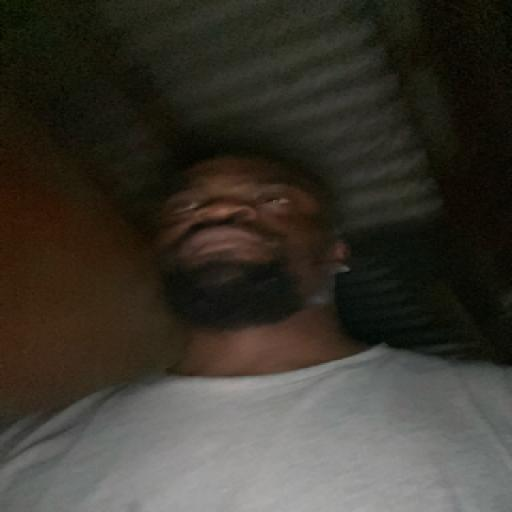JEANLUC: (142, 136, 366, 322)
